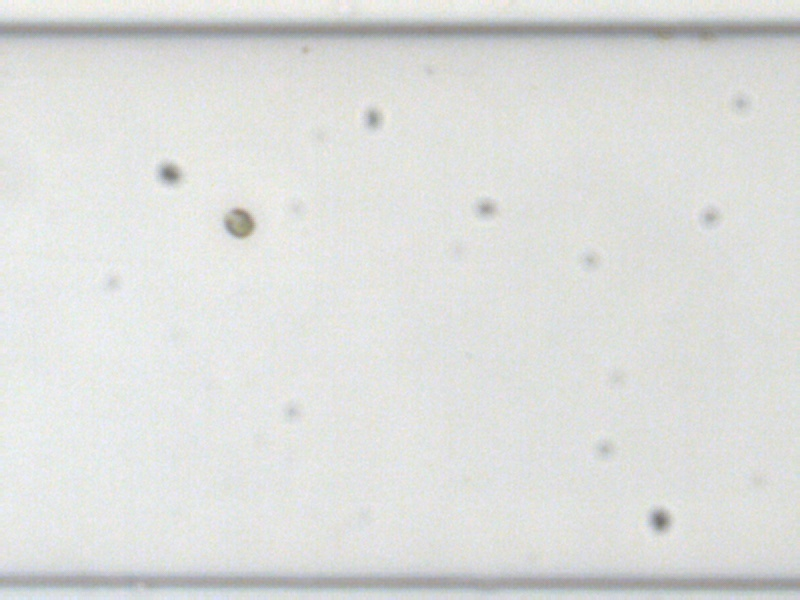Dunaliella salina: (221, 204, 254, 239)
